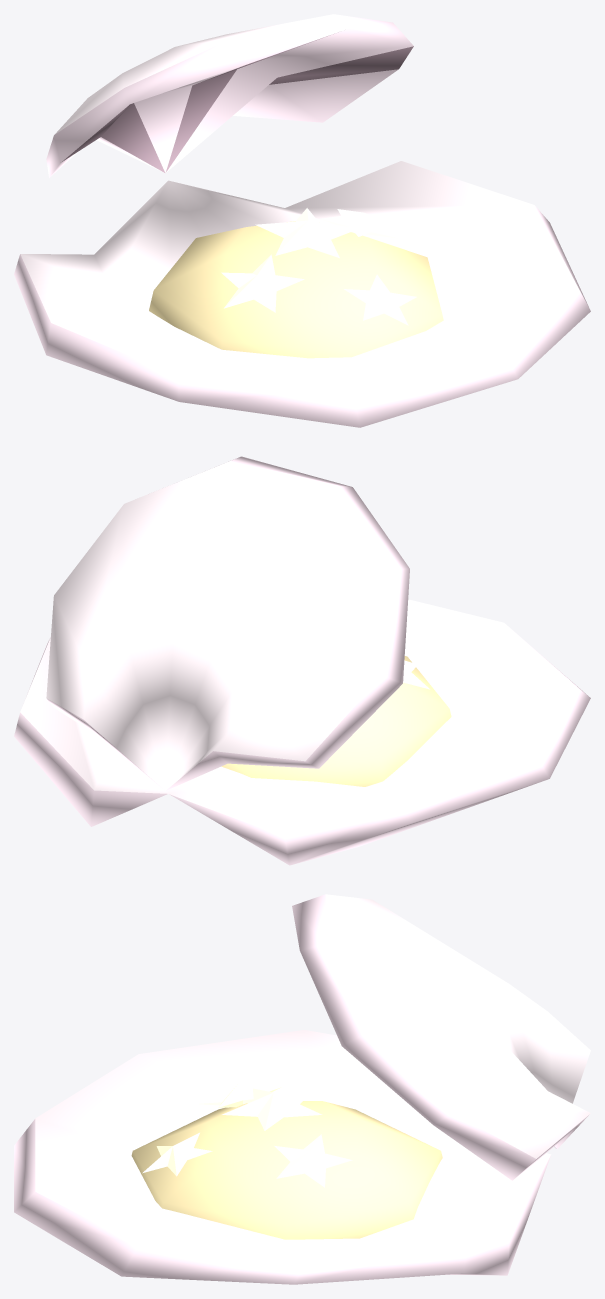
File: star-sand.glb
The picture shows the model from 3 angles, top to bottom: view 1: azimuth 30°, elevation 25°; view 2: azimuth 150°, elevation 25°; view 3: azimuth 270°, elevation 25°; orthographic projection.
Parts seen in each view (by area): view 1: star-sand; view 2: star-sand; view 3: star-sand.
Part boxes in pixels (left/top/right/bottom): star-sand: left=14, top=14, right=590, bottom=427; star-sand: left=14, top=456, right=590, bottom=865; star-sand: left=14, top=894, right=590, bottom=1284.
Bounding box in the file's own units: 1 × 0.6 × 1.
